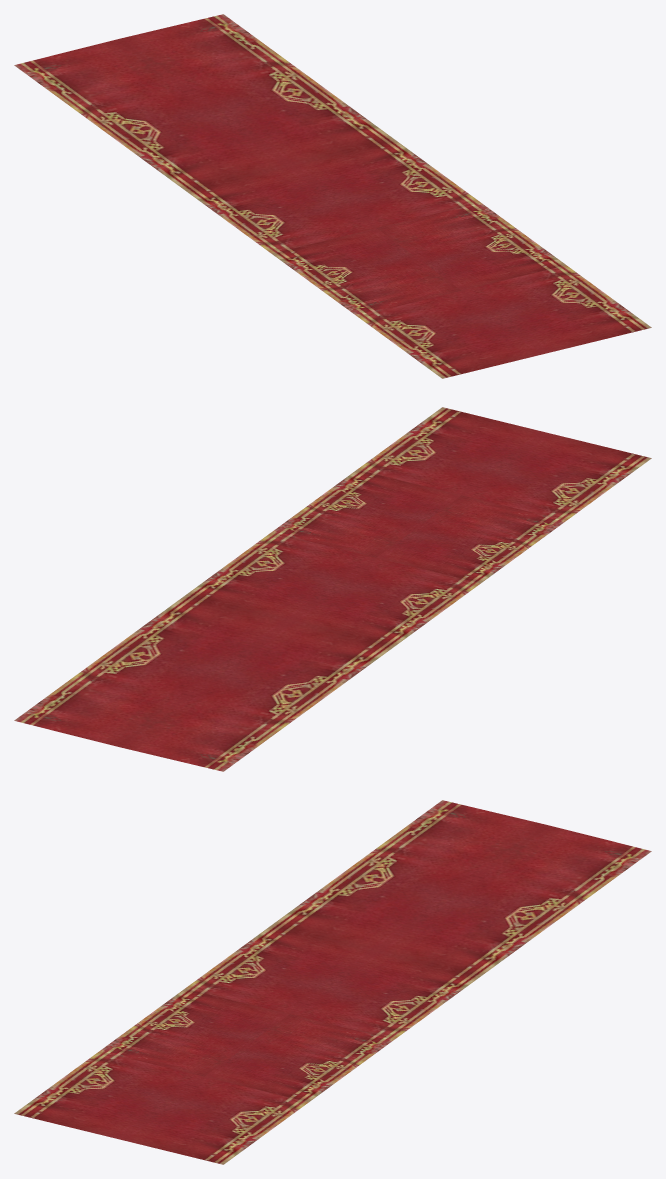
The model's file is S2_Build_XSC025.FBX.
3 renders of one model, top to bottom at view 1: azimuth 30°, elevation 25°; view 2: azimuth 150°, elevation 25°; view 3: azimuth 330°, elevation 25°, orthographic.
Visible parts, largest first — view 1: S2_Build_XSC025; view 2: S2_Build_XSC025; view 3: S2_Build_XSC025.
Boxes of the visible parts, left/top/right/bottom form: S2_Build_XSC025: left=14, top=14, right=651, bottom=378; S2_Build_XSC025: left=14, top=407, right=651, bottom=771; S2_Build_XSC025: left=14, top=800, right=651, bottom=1164.
Size of the model in its own units: 742 by 0.000119 by 2633.
Materials: 1 (1 with a texture image).
